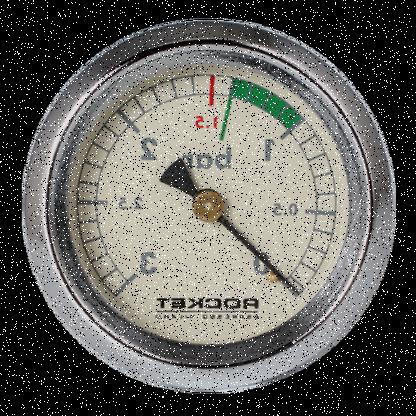needle: (217, 215, 296, 292)
